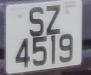1: (48, 32, 60, 68)
4: (13, 34, 33, 72)
5: (31, 35, 50, 69)
9: (56, 32, 77, 66)
S: (25, 3, 48, 40)
Z: (44, 3, 64, 39)
